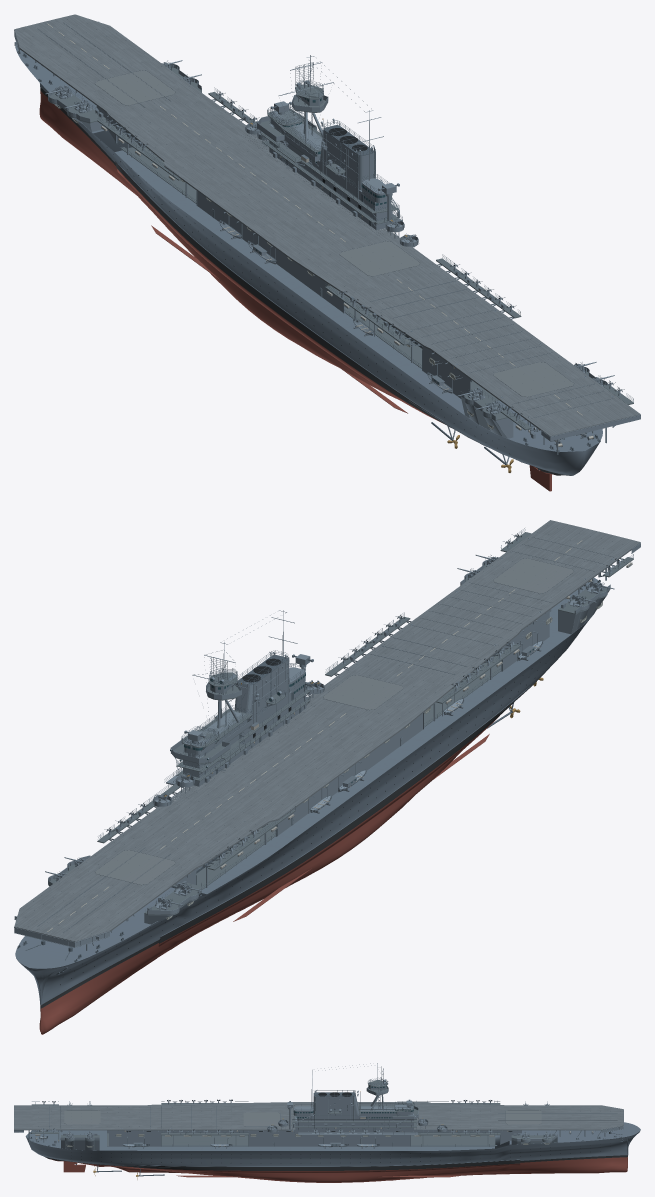
File: enterprise-cv6.glb
3 renders of one model, top to bottom at view 1: azimuth 30°, elevation 25°; view 2: azimuth 150°, elevation 25°; view 3: azimuth 270°, elevation 25°, orthographic. The views are drawn at different scales.
Visible parts, largest first — view 1: flight-deck-planking.mesh, Blueprint lofted hull, island.mesh, flight-deck.mesh, deck-equipment.mesh, hull-shell-belt-port.mesh, hangar-wall-port-1.mesh, hangar-and-galleries.mesh, elevator-aft.lift.mesh, elevator-forward.lift.mesh, elevator-middle.lift.mesh, funnel.mesh (+8 smaller); view 2: flight-deck-planking.mesh, Blueprint lofted hull, island.mesh, flight-deck.mesh, hull-shell-belt-port.mesh, deck-equipment.mesh, hangar-wall-port-1.mesh, hangar-and-galleries.mesh, elevator-forward.lift.mesh, elevator-middle.lift.mesh, elevator-aft.lift.mesh, funnel.mesh (+5 smaller); view 3: Blueprint lofted hull, flight-deck-planking.mesh, hull-shell-belt-starboard.mesh, island.mesh, flight-deck.mesh, hangar-wall-starboard-1.mesh, hangar-deck.mesh, gallery-wall-starboard.mesh, deck-equipment.mesh, island-base.mesh, hangar-and-galleries.mesh, funnel.mesh (+17 smaller).
Part boxes in pixels (x1,y1,x2,y2): flight-deck-planking.mesh: (14, 14, 640, 435); Blueprint lofted hull: (15, 45, 602, 475); island.mesh: (257, 55, 402, 232); flight-deck.mesh: (14, 14, 640, 436); deck-equipment.mesh: (22, 19, 630, 444); hull-shell-belt-port.mesh: (115, 161, 443, 423); hangar-wall-port-1.mesh: (197, 191, 343, 312); hangar-and-galleries.mesh: (14, 21, 633, 454); elevator-aft.lift.mesh: (493, 362, 573, 397); elevator-forward.lift.mesh: (95, 70, 175, 105); elevator-middle.lift.mesh: (339, 241, 419, 276); funnel.mesh: (320, 130, 374, 190); flight-deck-planking.mesh: (14, 520, 639, 941); Blueprint lofted hull: (15, 578, 600, 1034); island.mesh: (164, 610, 310, 785); flight-deck.mesh: (14, 524, 640, 942); hull-shell-belt-port.mesh: (158, 686, 530, 947); deck-equipment.mesh: (23, 528, 614, 968); hangar-wall-port-1.mesh: (277, 713, 422, 835); hangar-and-galleries.mesh: (14, 528, 633, 950); elevator-forward.lift.mesh: (95, 850, 175, 885); elevator-middle.lift.mesh: (323, 675, 403, 710); elevator-aft.lift.mesh: (493, 558, 573, 593); funnel.mesh: (234, 660, 287, 719); Blueprint lofted hull: (25, 1122, 640, 1182); flight-deck-planking.mesh: (14, 1102, 623, 1129); hull-shell-belt-starboard.mesh: (134, 1159, 520, 1172); island.mesh: (289, 1063, 420, 1135); flight-deck.mesh: (14, 1102, 623, 1130); hangar-wall-starboard-1.mesh: (249, 1133, 410, 1146); hangar-deck.mesh: (107, 1133, 495, 1146); gallery-wall-starboard.mesh: (107, 1129, 521, 1133); deck-equipment.mesh: (38, 1103, 622, 1148); island-base.mesh: (295, 1116, 413, 1130); hangar-and-galleries.mesh: (28, 1101, 610, 1146); funnel.mesh: (313, 1095, 359, 1115).
Bounding box in the file's own units: 35.93 × 53.52 × 251.
Materials: 24 (19 with a texture image).
